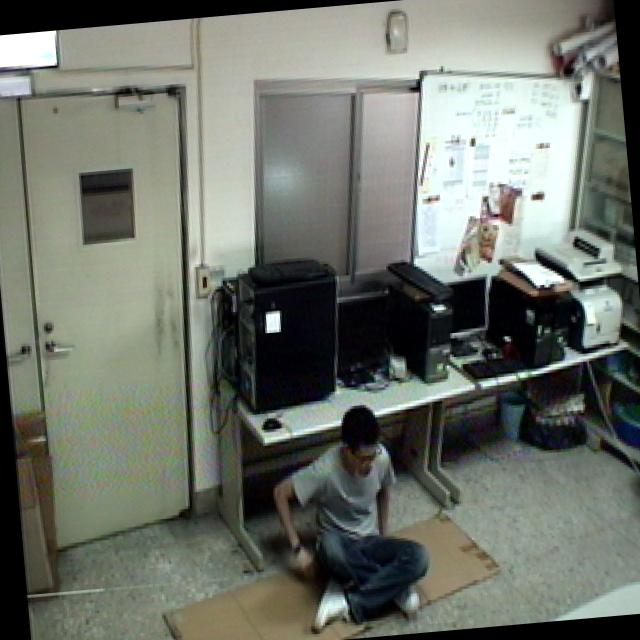sit: (264, 397, 439, 636)
